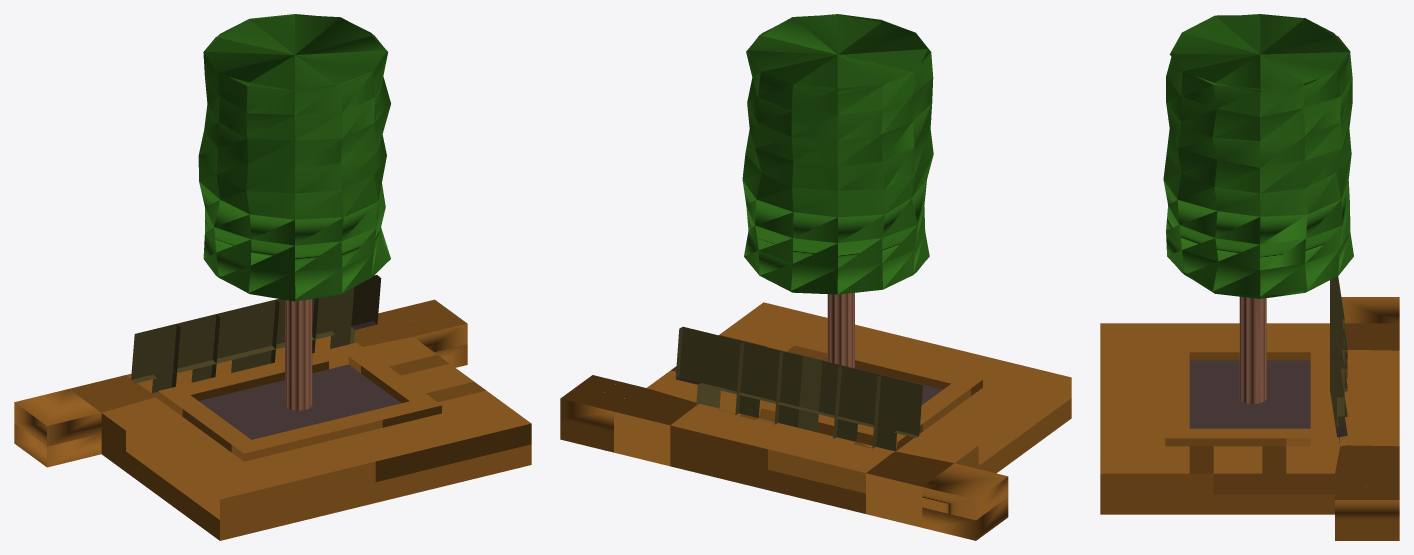
File: Panchina piazza.fbx
3 renders of one model, left to right at view 1: azimuth 30°, elevation 25°; view 2: azimuth 150°, elevation 25°; view 3: azimuth 270°, elevation 25°, orthographic.
Visible parts, largest first — view 1: Cubo_2; view 2: Cubo_2; view 3: Cubo_2.
Part boxes in pixels (left/top/right/bottom): Cubo_2: left=14, top=14, right=531, bottom=540; Cubo_2: left=560, top=14, right=1071, bottom=540; Cubo_2: left=1100, top=14, right=1399, bottom=540.
Bounding box in the file's own units: 425 × 401 × 265.
